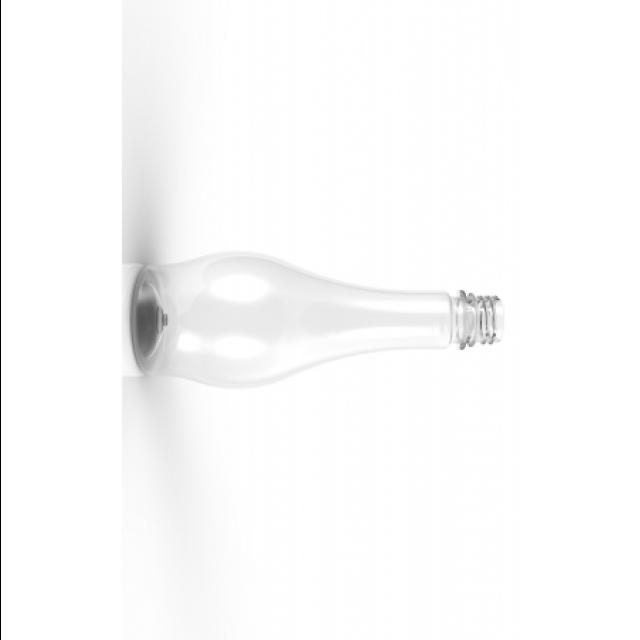bottom: (124, 267, 177, 385)
no_cap: (452, 275, 505, 363)
